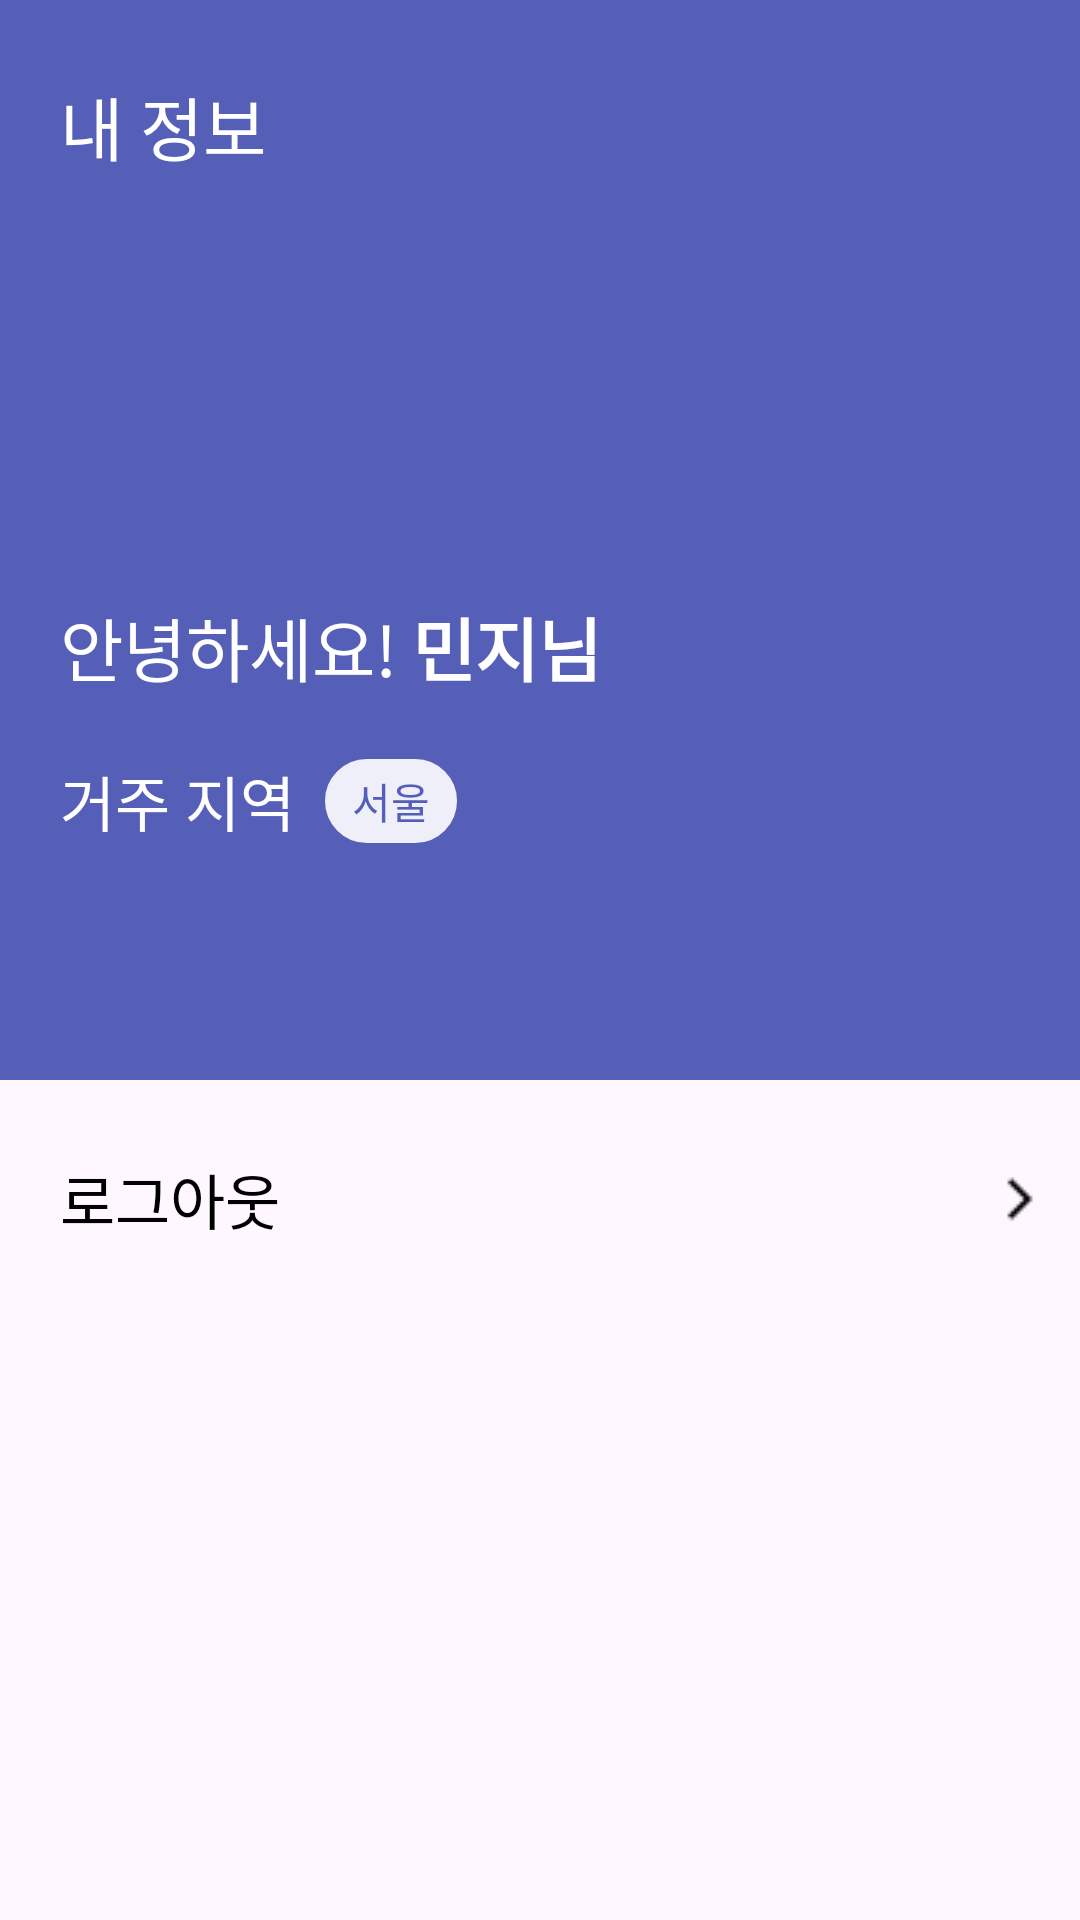

Locate icon controls on the screen. Image size 1080 × 1920, boxes as box(x1, y1, x2, y2).
arrow forward mypage: box(1007, 1177, 1033, 1221)
